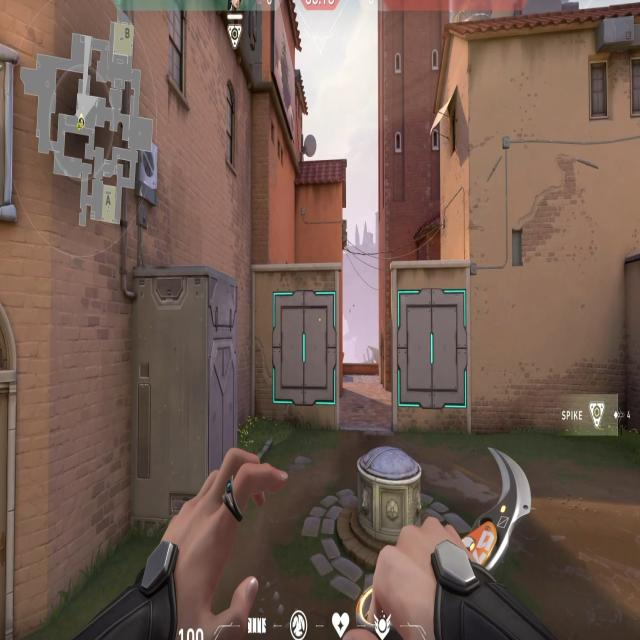Mid_Wall: (395, 290, 469, 414), (274, 287, 340, 406)
